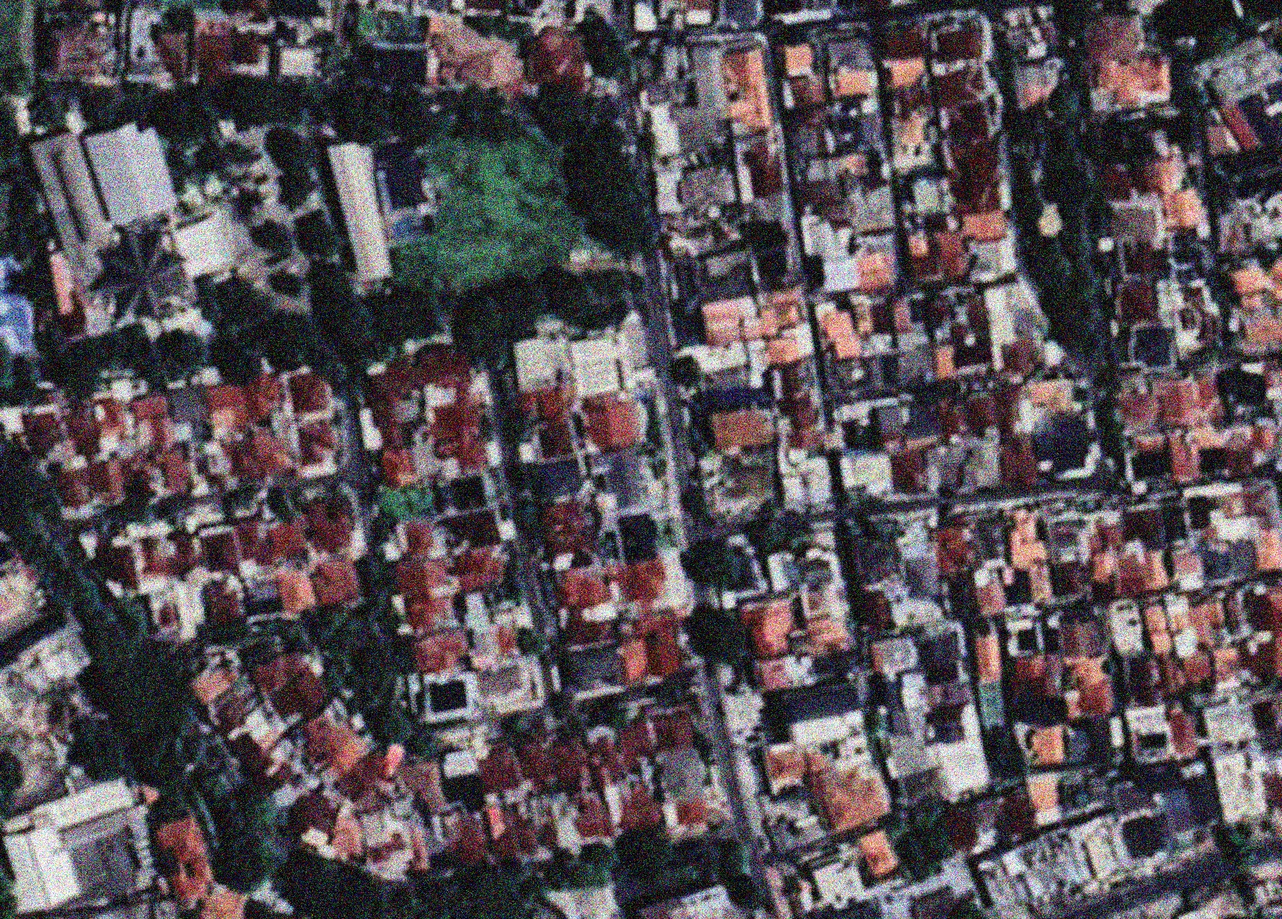building: (542, 547, 700, 693), (968, 807, 1140, 919), (340, 317, 477, 453), (73, 210, 203, 340), (26, 126, 123, 289), (199, 673, 315, 800), (650, 148, 749, 276), (877, 698, 990, 808), (0, 611, 101, 727), (80, 115, 179, 230), (413, 338, 494, 475), (326, 136, 393, 283), (245, 636, 340, 734), (794, 148, 895, 236), (368, 133, 444, 245), (60, 811, 146, 909), (16, 774, 140, 841), (803, 750, 895, 838), (1190, 27, 1282, 114), (0, 819, 82, 916), (289, 697, 375, 787), (423, 16, 524, 92), (803, 214, 898, 293), (509, 329, 582, 431), (871, 854, 983, 919), (794, 544, 854, 660), (151, 810, 222, 906), (925, 703, 996, 798), (647, 79, 732, 158), (779, 676, 869, 750), (44, 243, 111, 342), (794, 844, 878, 919), (766, 358, 827, 454), (333, 741, 409, 818), (690, 336, 768, 411), (202, 369, 288, 437), (1153, 762, 1226, 839), (672, 245, 757, 311), (983, 280, 1043, 371), (705, 446, 778, 519), (1216, 85, 1282, 164), (535, 495, 599, 575), (461, 583, 524, 664), (1208, 746, 1271, 826), (139, 573, 208, 646), (0, 549, 50, 648), (1090, 51, 1175, 109), (823, 350, 917, 402), (721, 42, 773, 134), (567, 330, 637, 398), (1033, 405, 1095, 478), (555, 640, 628, 702), (170, 212, 236, 280), (948, 136, 1004, 216), (525, 24, 591, 91), (1213, 192, 1282, 256), (1195, 690, 1264, 754), (581, 389, 647, 454), (1149, 0, 1242, 46), (1150, 374, 1223, 430), (359, 807, 417, 877), (631, 880, 734, 919), (732, 131, 788, 202), (739, 598, 801, 662), (510, 331, 575, 392), (436, 743, 488, 818), (777, 445, 834, 513), (203, 678, 267, 738), (355, 38, 430, 89), (407, 670, 480, 722), (744, 216, 799, 285), (706, 400, 776, 454), (618, 624, 683, 682), (907, 219, 968, 280), (395, 753, 450, 820), (1124, 702, 1178, 770), (1219, 146, 1282, 203), (698, 294, 763, 349), (656, 743, 711, 807), (1117, 808, 1178, 865), (609, 555, 672, 610), (914, 624, 969, 686), (485, 798, 539, 861), (598, 446, 650, 511), (1067, 654, 1118, 720), (47, 22, 107, 78), (814, 297, 864, 364), (689, 42, 731, 121), (508, 729, 559, 794), (471, 738, 524, 800), (580, 723, 628, 791), (408, 627, 473, 677), (308, 549, 362, 609), (1090, 116, 1154, 166), (842, 175, 898, 232), (185, 654, 243, 709), (280, 785, 339, 839), (1173, 283, 1222, 348), (440, 807, 492, 868), (547, 726, 595, 792), (1009, 56, 1066, 111), (1114, 323, 1177, 372), (557, 602, 620, 651), (1000, 506, 1049, 569), (1054, 609, 1110, 664), (640, 47, 691, 107), (753, 286, 808, 341), (898, 537, 943, 604), (304, 495, 355, 554), (1249, 588, 1282, 678), (999, 7, 1056, 59), (451, 544, 509, 595), (192, 11, 233, 83), (675, 163, 737, 210), (0, 575, 42, 644), (933, 59, 991, 108), (854, 826, 902, 885), (59, 399, 106, 458), (852, 533, 902, 588), (524, 793, 569, 854), (570, 787, 618, 844), (283, 365, 333, 419), (321, 804, 366, 864), (931, 517, 976, 577), (931, 18, 988, 65), (190, 436, 237, 493), (762, 740, 813, 792), (446, 507, 502, 554), (700, 375, 771, 412), (967, 235, 1020, 284), (864, 630, 919, 677), (756, 652, 817, 694), (997, 430, 1041, 488), (50, 455, 94, 513), (19, 401, 66, 455), (554, 567, 613, 610), (995, 783, 1041, 838), (939, 798, 984, 854), (1114, 380, 1164, 430), (1087, 14, 1139, 62), (237, 570, 284, 623), (784, 70, 830, 124), (613, 716, 659, 770), (197, 523, 242, 578), (126, 9, 160, 81), (822, 26, 874, 73), (941, 98, 993, 145), (897, 395, 944, 447), (532, 456, 586, 501), (395, 557, 451, 600), (1109, 774, 1159, 822), (1239, 478, 1282, 533), (231, 514, 273, 570), (649, 706, 697, 755), (835, 102, 881, 153), (927, 292, 971, 345), (840, 453, 892, 497), (251, 425, 294, 478), (274, 563, 317, 616), (700, 298, 746, 347), (1108, 203, 1164, 243), (296, 417, 339, 469), (418, 344, 471, 386), (95, 539, 137, 592), (642, 626, 683, 680), (1045, 517, 1091, 565), (1219, 365, 1269, 409), (619, 782, 663, 832), (960, 439, 1003, 490), (1167, 229, 1206, 285), (154, 443, 196, 495), (473, 662, 527, 702), (166, 380, 211, 428), (1026, 375, 1077, 417), (468, 623, 519, 665), (85, 454, 126, 506), (969, 516, 1009, 569), (796, 544, 840, 592), (617, 512, 658, 563), (203, 576, 244, 627), (805, 612, 852, 656), (788, 117, 836, 160), (1197, 115, 1240, 163), (422, 675, 471, 717), (1164, 703, 1200, 760), (1095, 160, 1138, 207), (233, 21, 270, 75), (266, 517, 309, 563), (924, 444, 966, 491), (221, 434, 262, 482), (995, 336, 1044, 376), (888, 82, 936, 122), (403, 595, 452, 634), (961, 208, 1011, 246), (1125, 655, 1161, 707), (1134, 760, 1186, 796), (880, 24, 930, 61), (533, 419, 576, 462), (1025, 724, 1068, 767), (1011, 655, 1055, 697), (376, 444, 417, 489), (910, 884, 962, 919), (1161, 188, 1202, 232), (1238, 308, 1282, 349), (1166, 431, 1201, 482), (1015, 695, 1066, 730), (1120, 240, 1168, 277), (1164, 228, 1206, 270), (396, 517, 438, 559), (747, 157, 788, 200), (561, 659, 601, 703), (968, 791, 1007, 836), (970, 632, 1004, 683), (1236, 638, 1275, 682), (1197, 538, 1233, 585), (452, 434, 493, 475), (1119, 281, 1158, 324), (873, 399, 907, 448), (1188, 601, 1225, 646), (166, 529, 202, 575), (890, 448, 925, 495), (1113, 550, 1148, 597), (857, 251, 897, 292), (1119, 506, 1163, 543), (1088, 714, 1118, 768), (782, 321, 822, 361), (820, 252, 860, 292), (1054, 558, 1091, 601), (158, 27, 189, 78), (992, 383, 1023, 434), (964, 388, 999, 433), (776, 0, 839, 25), (859, 586, 893, 632), (1153, 651, 1187, 697), (662, 549, 688, 609), (1223, 591, 1254, 641), (898, 343, 936, 383), (1178, 647, 1216, 687), (952, 336, 994, 372), (1227, 263, 1269, 299), (129, 389, 172, 424), (198, 889, 248, 919), (801, 175, 846, 208), (1152, 155, 1183, 202), (450, 474, 488, 512), (1161, 112, 1200, 149), (1158, 501, 1190, 546), (910, 173, 945, 214), (892, 321, 931, 357), (1028, 775, 1064, 814), (274, 43, 314, 78), (1226, 538, 1259, 580), (1168, 545, 1204, 583), (1129, 449, 1169, 483), (973, 578, 1007, 618), (1211, 645, 1241, 690), (765, 333, 803, 368), (1185, 492, 1219, 531), (895, 117, 928, 157), (671, 797, 711, 830), (368, 363, 399, 405), (139, 536, 170, 578), (1254, 528, 1282, 573), (964, 291, 990, 339), (833, 67, 873, 98), (1002, 568, 1032, 609), (781, 41, 816, 76), (718, 0, 763, 26), (760, 552, 788, 593), (1252, 696, 1282, 734), (887, 59, 926, 88), (97, 399, 126, 438), (270, 0, 322, 21), (1143, 551, 1169, 592), (409, 820, 429, 873), (601, 784, 626, 826), (1141, 601, 1171, 636), (1225, 442, 1255, 475), (1066, 724, 1092, 762), (147, 414, 176, 448), (889, 295, 914, 334), (881, 677, 907, 714), (711, 219, 742, 250), (1131, 163, 1159, 197), (517, 0, 567, 19), (125, 471, 154, 503), (1009, 623, 1038, 655), (1038, 620, 1063, 656), (869, 297, 893, 334), (630, 0, 656, 31), (222, 0, 269, 17), (1100, 522, 1125, 552), (1013, 654, 1044, 678), (1265, 775, 1282, 818), (0, 406, 24, 436), (816, 200, 850, 221), (1250, 426, 1277, 451), (1197, 426, 1225, 450), (1149, 631, 1174, 655), (1269, 259, 1282, 302), (805, 158, 827, 181), (773, 0, 804, 15), (858, 0, 893, 11), (2, 635, 24, 650), (697, 48, 711, 71), (833, 0, 859, 10)
tree: (92, 634, 216, 759), (40, 564, 143, 677), (182, 255, 279, 352), (560, 117, 645, 227), (272, 847, 383, 919), (58, 702, 144, 793), (419, 860, 546, 918), (148, 77, 237, 149), (208, 823, 291, 900), (681, 594, 757, 676), (1034, 154, 1109, 230), (0, 452, 62, 541), (531, 75, 606, 148), (125, 728, 197, 799), (0, 165, 51, 264), (676, 531, 754, 594), (620, 826, 693, 893), (534, 263, 604, 330), (327, 86, 399, 151), (343, 646, 416, 710), (597, 196, 665, 264), (578, 12, 642, 84), (376, 291, 458, 347), (384, 86, 451, 151), (271, 126, 324, 208), (491, 271, 554, 338), (229, 73, 306, 124), (326, 295, 387, 355), (159, 321, 219, 379), (1048, 296, 1105, 354), (209, 331, 268, 387), (0, 333, 42, 406), (124, 320, 169, 388), (83, 325, 138, 380), (261, 313, 313, 371), (552, 846, 617, 892), (110, 590, 160, 649), (1020, 228, 1072, 283), (19, 528, 71, 583), (462, 7, 534, 46), (55, 346, 107, 400), (234, 781, 286, 835), (23, 88, 76, 140), (323, 609, 371, 666), (458, 107, 528, 145), (355, 553, 402, 608), (75, 82, 125, 133), (891, 829, 938, 883), (680, 831, 728, 882), (360, 596, 411, 644), (310, 263, 355, 317), (1056, 264, 1107, 310), (367, 704, 420, 748), (742, 509, 791, 556), (302, 210, 349, 259), (724, 871, 775, 916), (314, 349, 359, 400), (466, 291, 513, 338), (712, 840, 758, 886), (1055, 0, 1105, 42), (1171, 49, 1201, 119), (1056, 224, 1102, 269), (1195, 18, 1243, 61), (917, 823, 960, 871), (152, 779, 202, 820), (348, 335, 405, 370), (1044, 80, 1088, 125), (306, 604, 351, 648), (1017, 187, 1050, 246), (680, 481, 723, 526), (106, 492, 156, 530), (595, 694, 639, 737), (587, 267, 646, 299), (667, 351, 709, 394), (15, 265, 60, 305), (8, 347, 51, 388), (195, 765, 234, 809), (252, 219, 298, 255), (1007, 105, 1047, 146), (1046, 254, 1083, 298), (983, 721, 1017, 766), (907, 800, 949, 836), (0, 110, 26, 168), (1226, 827, 1261, 870), (312, 30, 347, 72), (376, 886, 422, 917), (772, 779, 812, 814), (584, 303, 632, 332), (2, 755, 26, 813), (1205, 167, 1237, 210), (502, 412, 539, 448), (458, 316, 494, 352), (200, 622, 254, 646), (1098, 400, 1131, 439), (478, 332, 514, 367), (199, 140, 235, 175), (270, 270, 309, 302), (515, 502, 544, 545), (276, 627, 316, 658), (315, 658, 349, 692), (514, 626, 550, 658), (0, 63, 37, 94), (1094, 364, 1127, 398), (550, 686, 584, 719), (125, 72, 159, 105), (263, 486, 296, 520), (860, 514, 895, 546), (861, 704, 889, 742), (341, 56, 369, 94), (642, 397, 665, 443), (240, 640, 277, 668), (1040, 292, 1072, 323), (219, 799, 250, 831), (512, 458, 542, 491), (647, 680, 685, 706), (645, 446, 671, 483), (501, 569, 528, 604), (706, 138, 737, 168), (1048, 145, 1083, 171), (1018, 154, 1043, 189), (1234, 877, 1263, 907), (1078, 330, 1108, 359), (342, 372, 370, 403), (1163, 34, 1194, 61), (1007, 746, 1033, 778), (1241, 0, 1281, 20), (1202, 274, 1227, 305), (255, 613, 287, 637), (1217, 249, 1244, 276), (1195, 340, 1224, 365), (1236, 8, 1263, 34), (718, 203, 746, 228), (779, 25, 814, 45), (503, 715, 533, 737), (1192, 84, 1217, 110), (759, 495, 784, 521), (160, 504, 185, 530), (196, 811, 216, 843), (1141, 15, 1162, 45), (306, 81, 325, 114), (157, 10, 190, 29), (951, 900, 985, 918), (688, 464, 714, 487), (374, 518, 395, 546), (411, 738, 440, 758), (246, 897, 275, 917), (1069, 41, 1093, 65), (1056, 123, 1079, 147), (690, 439, 716, 460), (1074, 386, 1096, 410), (986, 59, 1009, 81), (600, 537, 620, 562), (1085, 134, 1106, 157), (888, 514, 909, 537), (1005, 50, 1028, 70), (1102, 0, 1132, 15), (1187, 681, 1207, 700), (843, 522, 863, 541), (696, 743, 716, 762), (306, 318, 320, 343), (1106, 438, 1121, 461), (1115, 434, 1134, 452), (1182, 697, 1200, 715), (638, 41, 659, 56), (1263, 673, 1281, 690), (1229, 332, 1244, 352), (491, 89, 511, 104), (1060, 669, 1074, 690), (1045, 40, 1062, 57), (501, 504, 518, 521), (1102, 658, 1118, 675), (924, 283, 941, 299), (465, 87, 482, 100), (1076, 593, 1091, 607), (441, 88, 457, 100), (784, 884, 796, 898)
